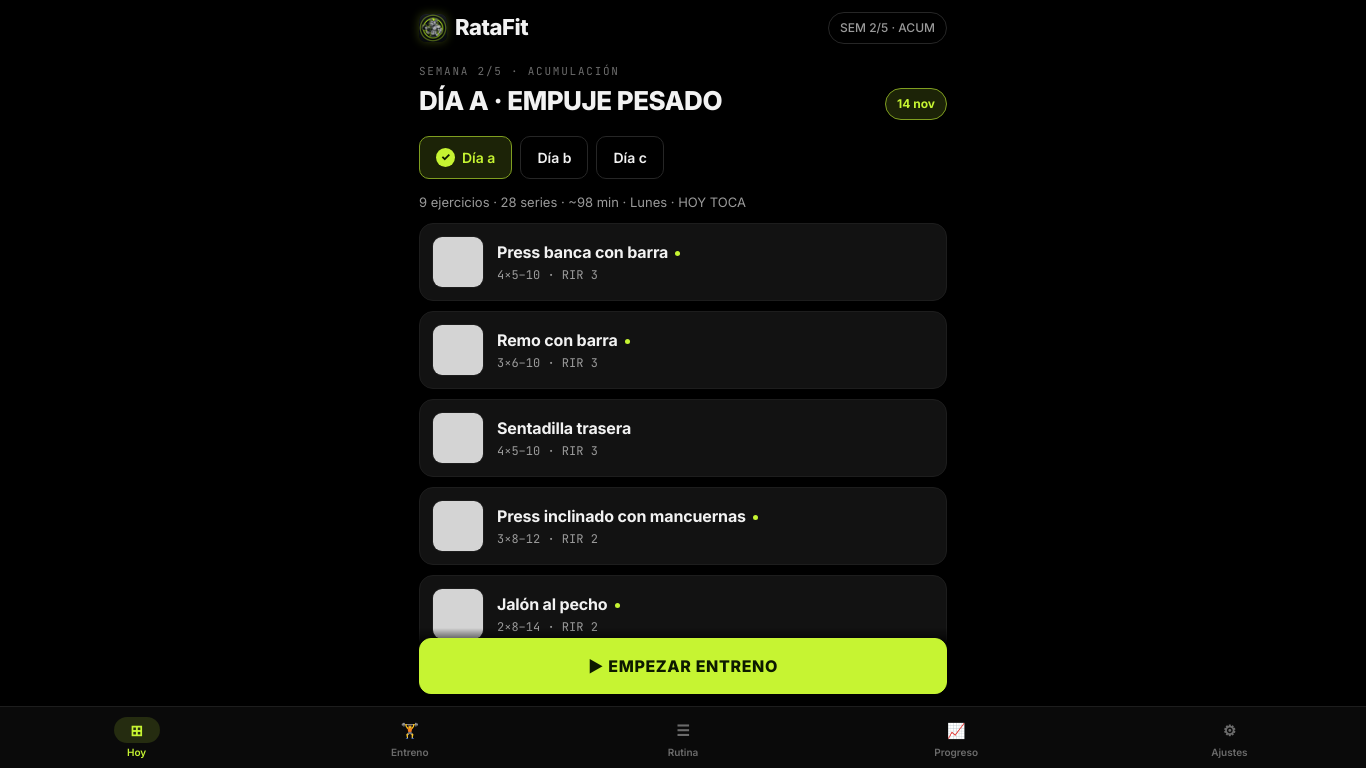
flujo completo de un entrenamiento › las series de la sesión anterior alimentan las marcas personales
Click the button "📈 Progreso".
click(956, 738)  # box [820,711,1093,764]
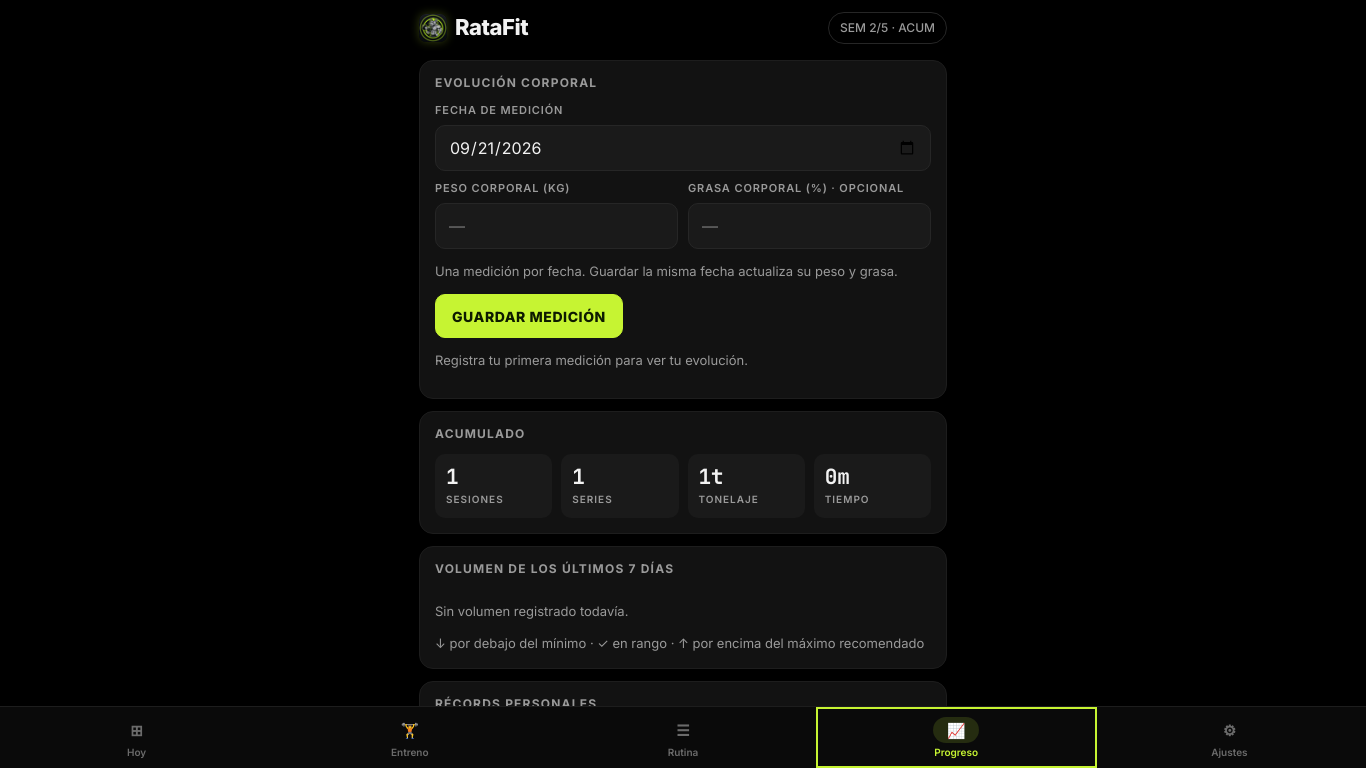
Check: the text "117 kg 1RM" is shown, box [828,737,915,767]
